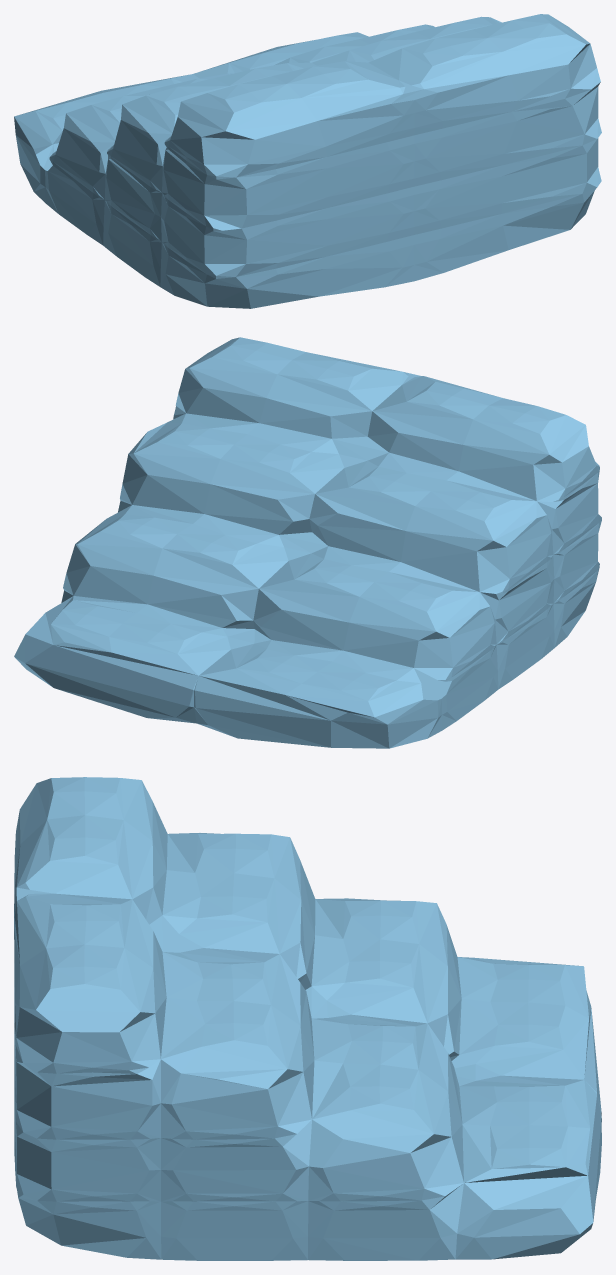
The model's file is brick stairs style 3.fbx.
3 views of the same model, one above another, from view 1: azimuth 30°, elevation 25°; view 2: azimuth 150°, elevation 25°; view 3: azimuth 270°, elevation 25° (orthographic). The views are drawn at different scales.
Visible parts, largest first — view 1: Cube.109; view 2: Cube.109; view 3: Cube.109.
Boxes of the visible parts, x1,y1,x2,y2 form: Cube.109: [14, 14, 601, 308]; Cube.109: [14, 337, 601, 748]; Cube.109: [14, 777, 601, 1260].
Bounding box in the file's own units: 300 × 150 × 300.
